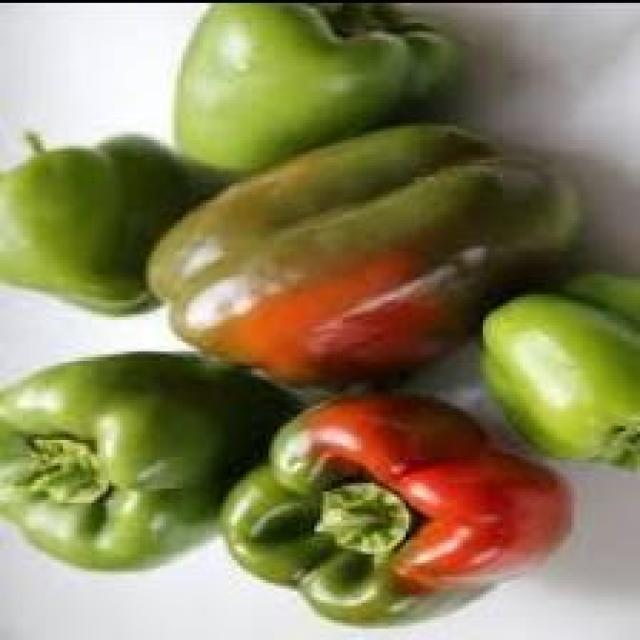Pepper: (146, 120, 594, 394), (0, 351, 311, 577), (251, 406, 563, 620), (171, 6, 463, 177), (0, 134, 237, 317), (480, 274, 640, 474)
